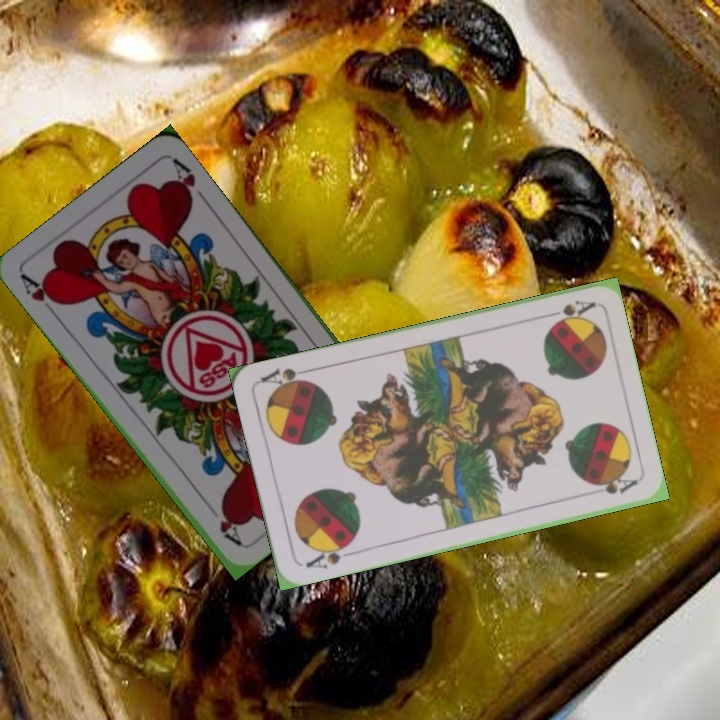HA: (17, 270, 64, 320)
SA: (301, 538, 358, 572), (539, 296, 598, 326)
